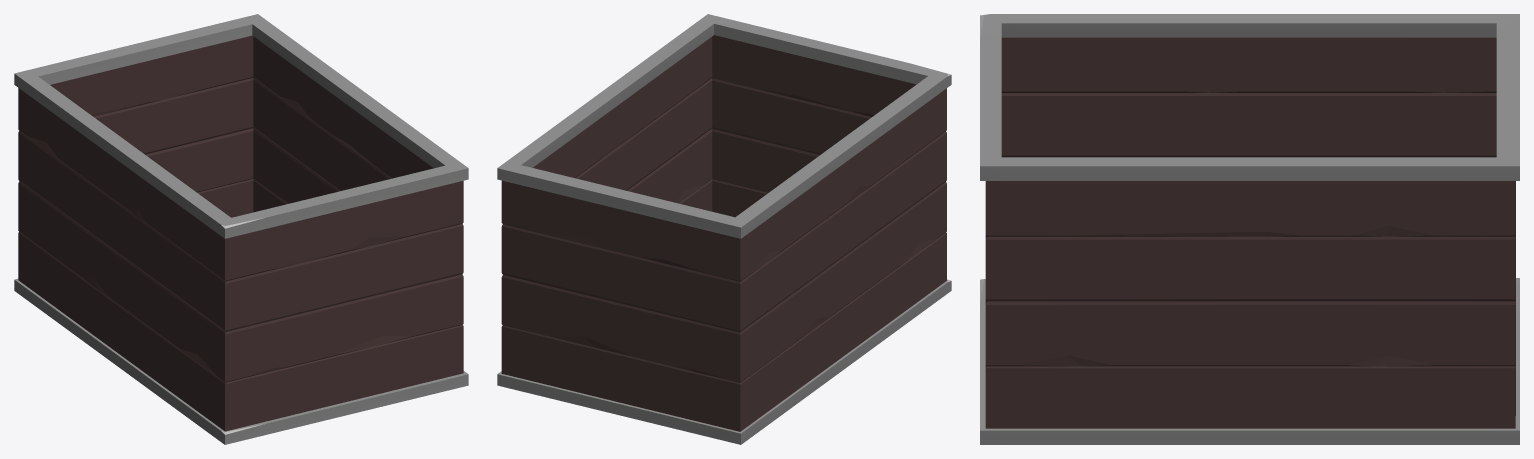
Rendered from prop_6.FBX.
3 renders of one model, left to right at view 1: azimuth 30°, elevation 25°; view 2: azimuth 150°, elevation 25°; view 3: azimuth 270°, elevation 25°, orthographic. The views are drawn at different scales.
Visible parts, largest first — view 1: prop_6; view 2: prop_6; view 3: prop_6.
Part boxes in pixels (box(x1,y1,x2,y2)): prop_6: box(14, 14, 468, 444); prop_6: box(497, 14, 951, 444); prop_6: box(980, 14, 1519, 444).
Size of the model in its own units: 35.66 by 30.39 by 53.39.
